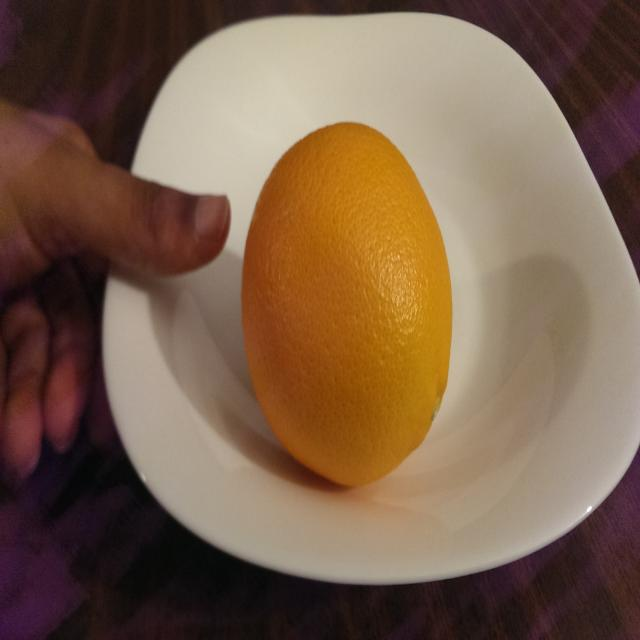orange: (241, 120, 453, 488)
